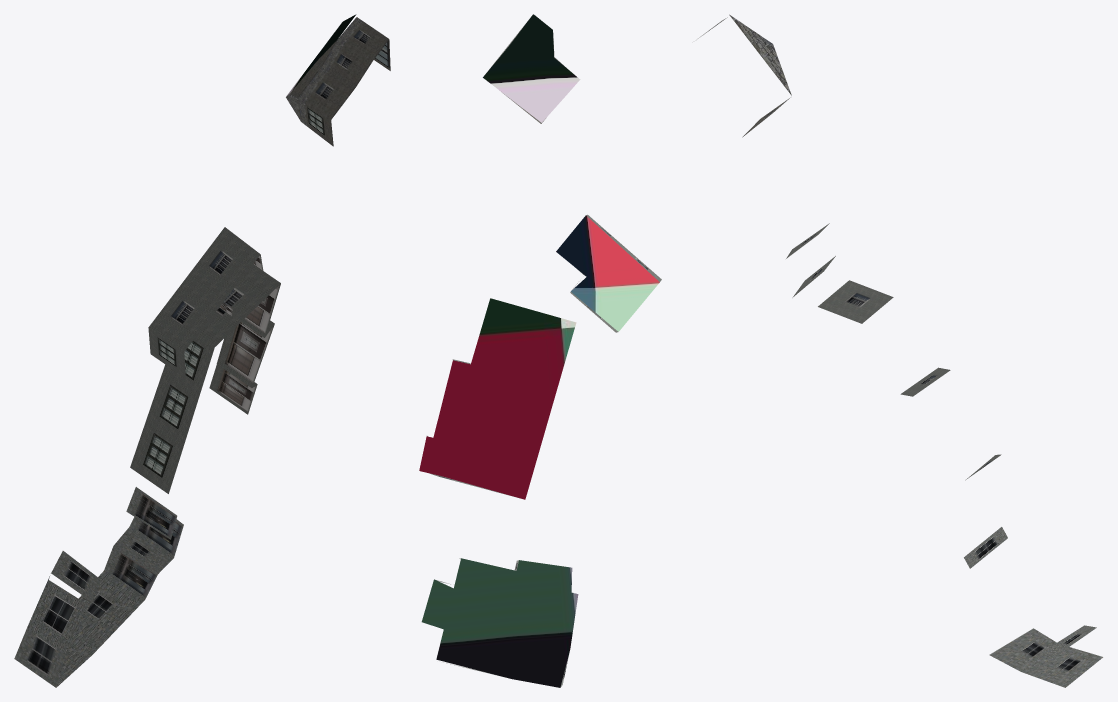
Rendered from tile_LOD8_r4_c0.glb.
3 renders of one model, left to right at view 1: azimuth 30°, elevation 25°; view 2: azimuth 150°, elevation 25°; view 3: azimuth 270°, elevation 25°, orthographic. The views are drawn at different scales.
Size of the model in its own units: 21.5 by 62.75 by 32.5.
13 materials, 13 textured.
